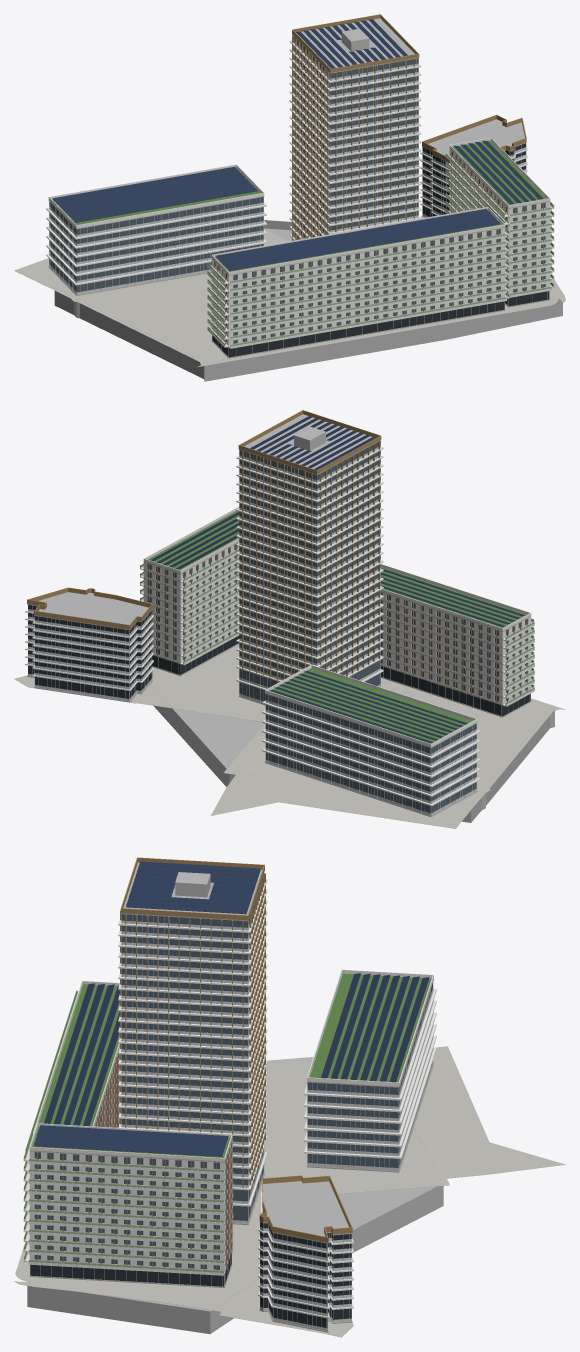
Rendered from model_web.glb.
The picture shows the model from 3 angles, top to bottom: view 1: azimuth 30°, elevation 25°; view 2: azimuth 150°, elevation 25°; view 3: azimuth 270°, elevation 25°; orthographic projection. The views are drawn at different scales.
Visible parts, largest first — view 1: scheme; view 2: scheme; view 3: scheme.
Part boxes in pixels (left/top/right/bottom): scheme: left=14, top=14, right=565, bottom=381; scheme: left=14, top=410, right=565, bottom=828; scheme: left=14, top=857, right=565, bottom=1337.
Size of the model in its own units: 192 by 105 by 154.
